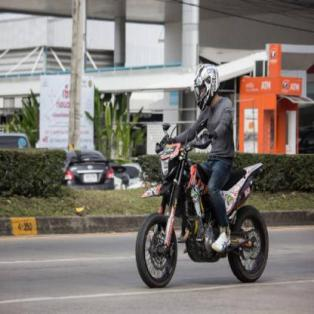Motocicleta: (132, 123, 270, 291)
